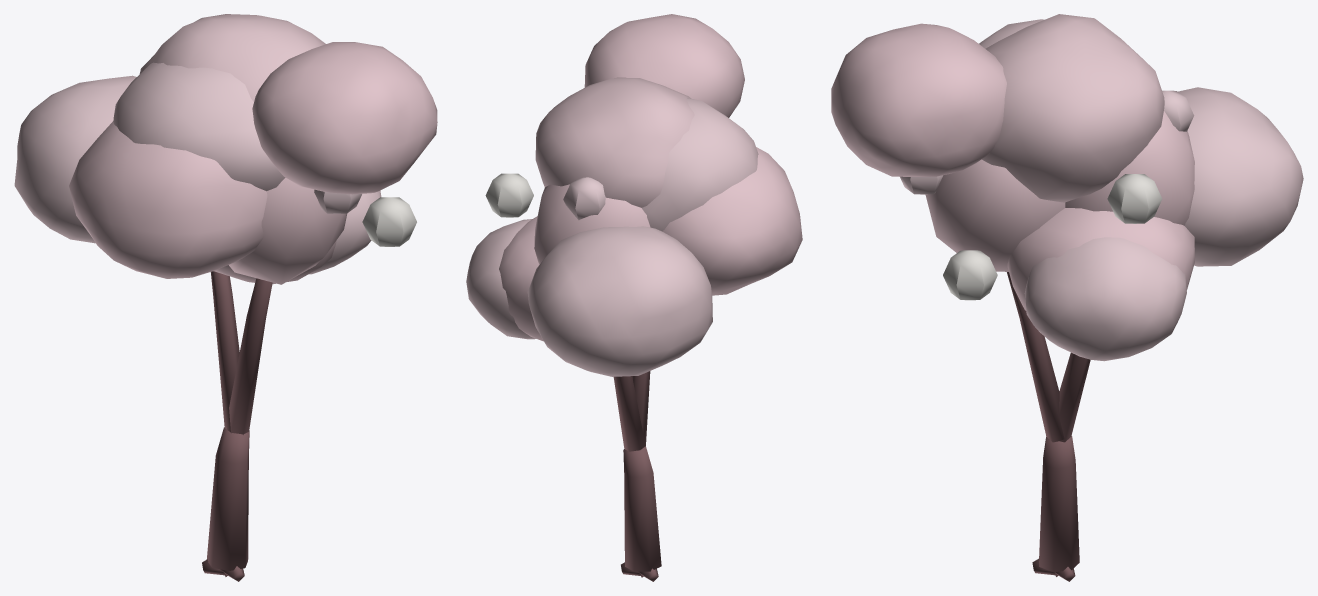
The model's file is apple_blossom_b1.glb.
3 renders of one model, left to right at view 1: azimuth 30°, elevation 25°; view 2: azimuth 150°, elevation 25°; view 3: azimuth 270°, elevation 25°, orthographic. The views are drawn at different scales.
Parts seen in each view (by area): view 1: apple_blossom_b1; view 2: apple_blossom_b1; view 3: apple_blossom_b1.
Part boxes in pixels (x1,y1,x2,y2): apple_blossom_b1: (14, 14, 437, 581); apple_blossom_b1: (466, 14, 802, 581); apple_blossom_b1: (831, 14, 1303, 581).
Size of what is drawn, in the model's own units: 3.54 by 6 by 4.57.
